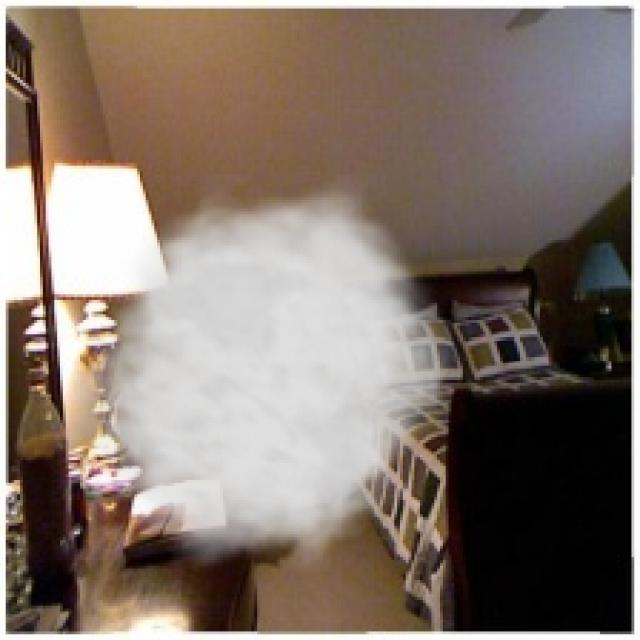smoke: (66, 174, 460, 572)
